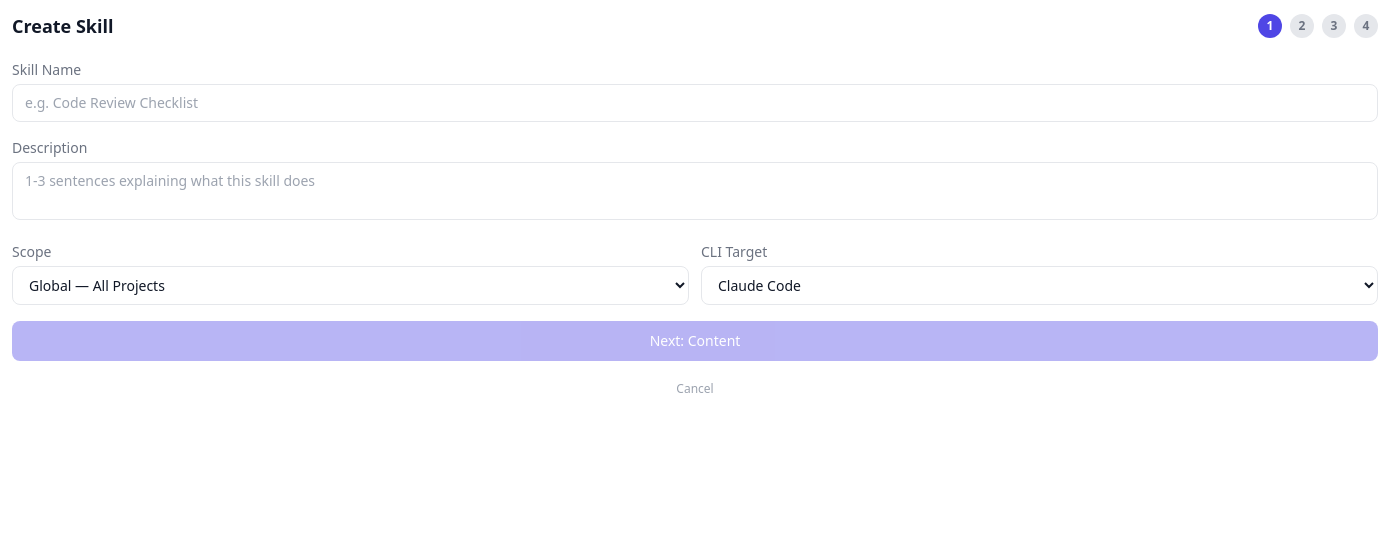
SkillWizard › advances to Step 3 with content filled
In the field with placeholder "e.g. Code Review Checklist": coordinates (695, 103) [12,84,1378,122], type "Test Skill"
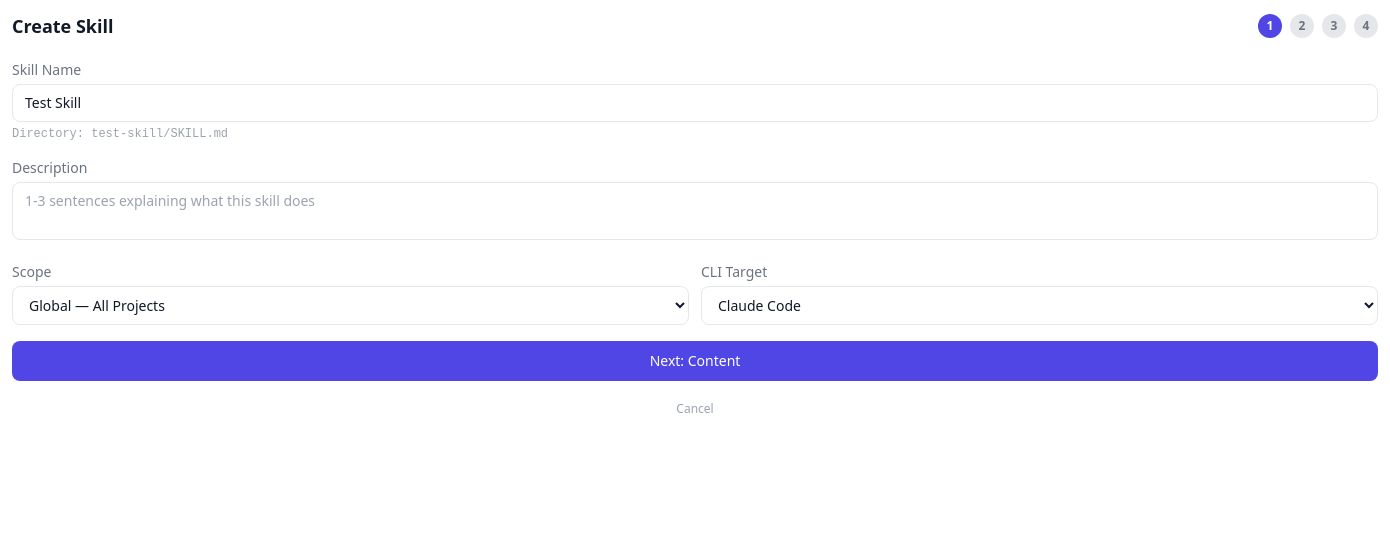
Click the button "Next: Content": coordinates (695, 361) [12,341,1378,381]
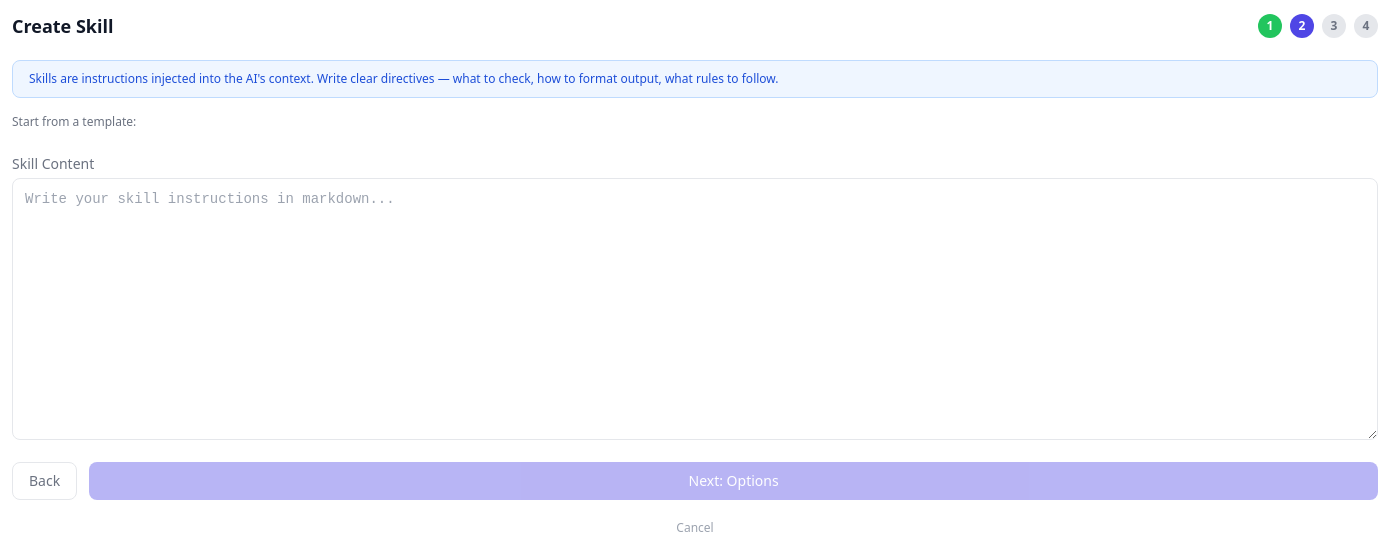
In the text box with placeholder "Write your skill instructions in markdown...": coordinates (695, 309) [12,178,1378,440], type "Check for security issues"
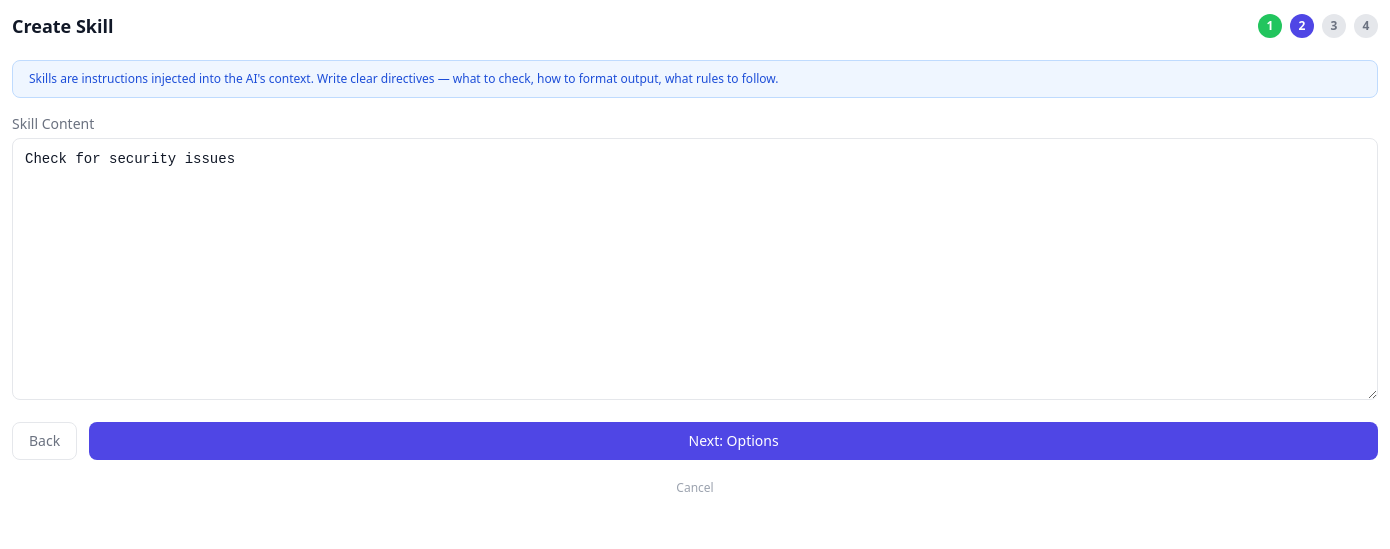
Click the button "Next: Options": coordinates (734, 441) [89,422,1378,460]
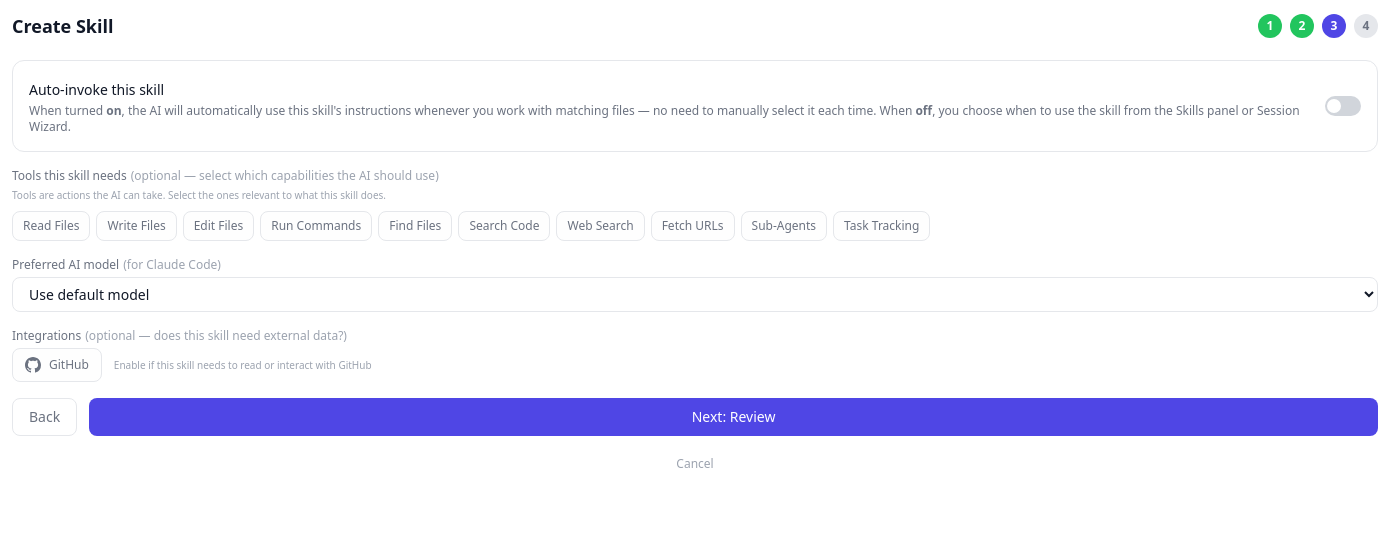
Result: the text "Auto-invoke this skill" is shown at [29,80,164,99]
